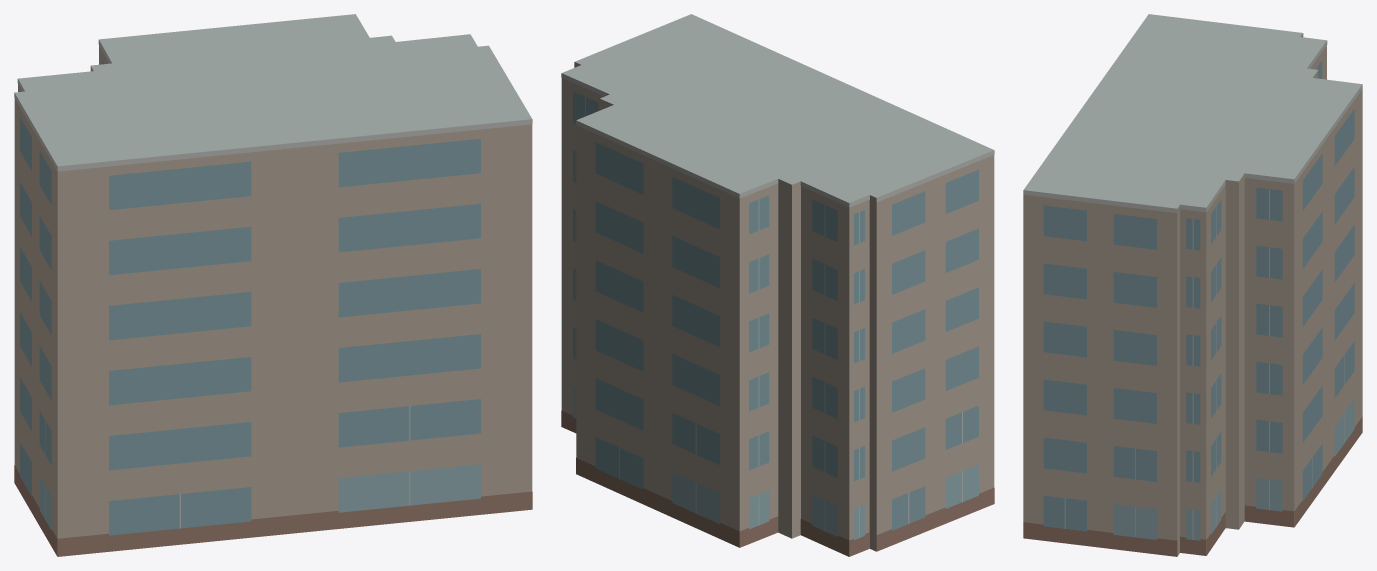
The model's file is survey-upis-32962814.glb.
The picture shows the model from 3 angles, left to right: view 1: azimuth 30°, elevation 25°; view 2: azimuth 150°, elevation 25°; view 3: azimuth 270°, elevation 25°; orthographic projection. The views are drawn at different scales.
Parts seen in each view (by area): view 1: survey-upis-32962814.tmp; view 2: survey-upis-32962814.tmp; view 3: survey-upis-32962814.tmp.
Boxes of the visible parts, x1,y1,x2,y2 form: survey-upis-32962814.tmp: (14, 14, 532, 556); survey-upis-32962814.tmp: (561, 14, 994, 556); survey-upis-32962814.tmp: (1023, 14, 1362, 556).
Size of the model in its own units: 22.27 by 18.56 by 16.4.
